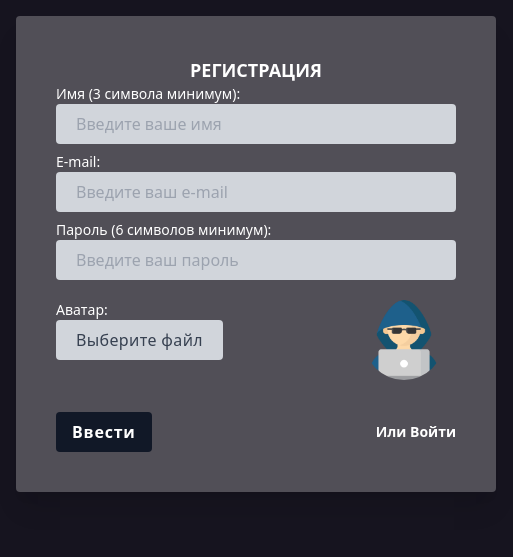
Scenario: LoginForm › should show error messages in russian
expect the text "Регистрация" is shown: met, box [190,58,322,82]
Click the button "Ввести" at (104, 432), box [56,412,152,452]
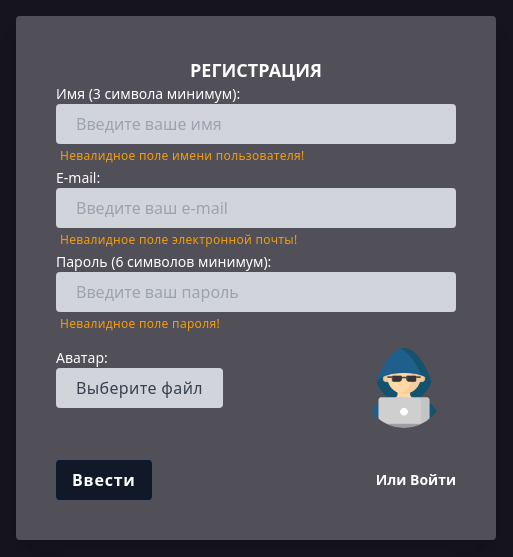
expect the text "Невалидное поле пароля!" is shown: met, box [60,315,220,332]
